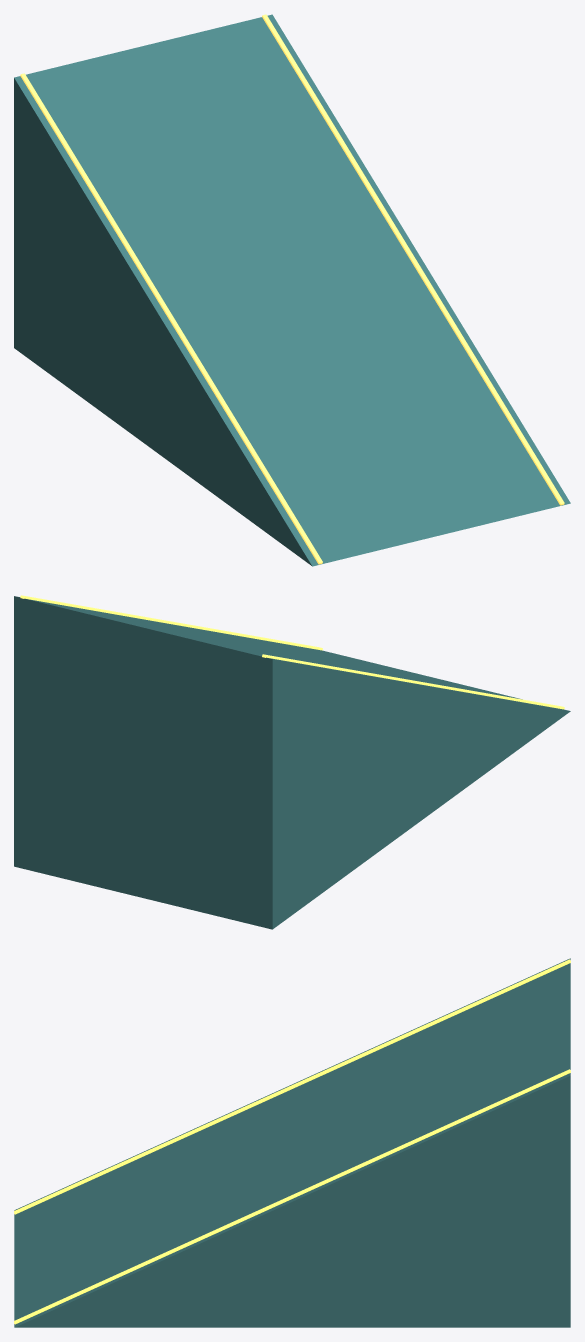
File: ramp.glb
3 views of the same model, one above another, from view 1: azimuth 30°, elevation 25°; view 2: azimuth 150°, elevation 25°; view 3: azimuth 270°, elevation 25° (orthographic). The views are drawn at different scales.
Visible parts, largest first — view 1: ramp; view 2: ramp; view 3: ramp.
Boxes of the visible parts, left/top/right/bottom form: ramp: left=14, top=14, right=570, bottom=566; ramp: left=14, top=595, right=570, bottom=929; ramp: left=14, top=958, right=570, bottom=1327.
Bounding box in the file's own units: 4 × 4.03 × 8.01.
